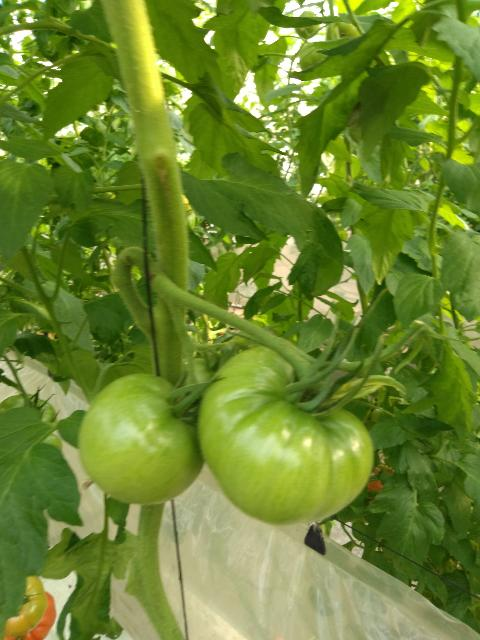b_green: (196, 346, 373, 525), (79, 373, 205, 505), (0, 393, 56, 423)
b_half_ripened: (2, 575, 47, 635), (2, 591, 57, 640)
